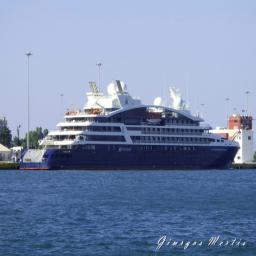cruises: (20, 81, 243, 173)
